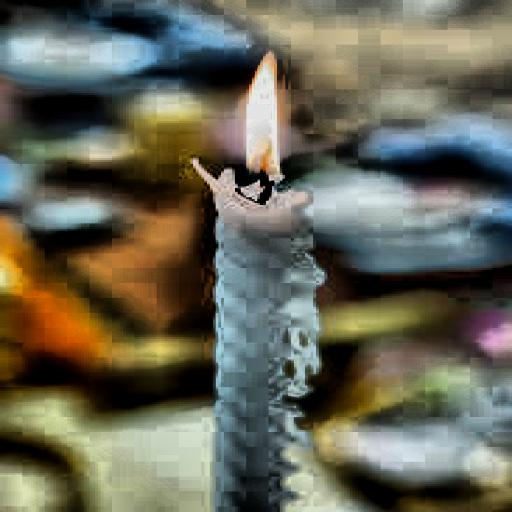fire: (221, 43, 294, 190)
